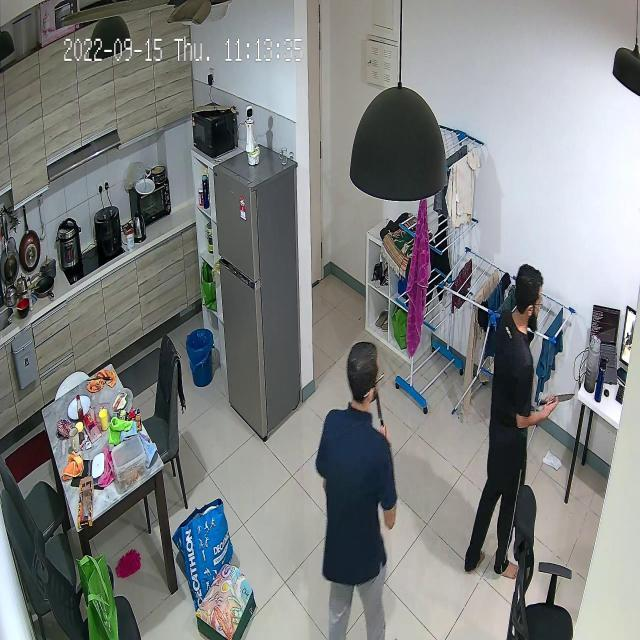Knife: (373, 390, 394, 429)
